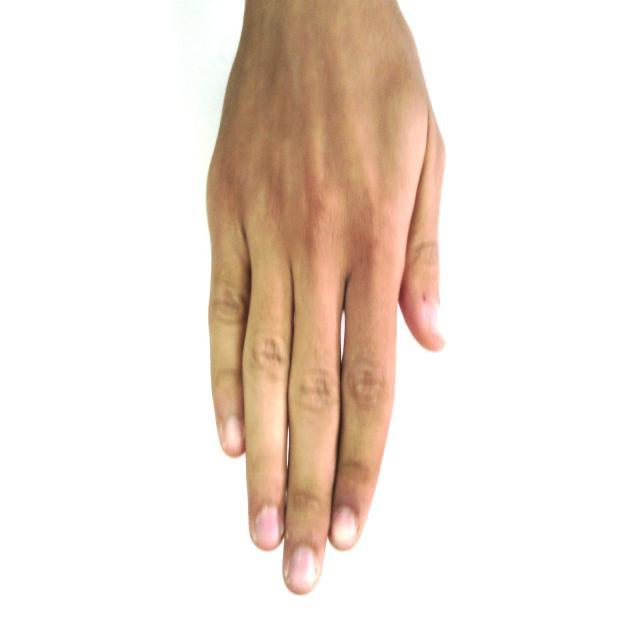Fingernail: (290, 547, 316, 591), (331, 509, 356, 548), (256, 507, 279, 547), (224, 419, 241, 451), (427, 303, 443, 335)
